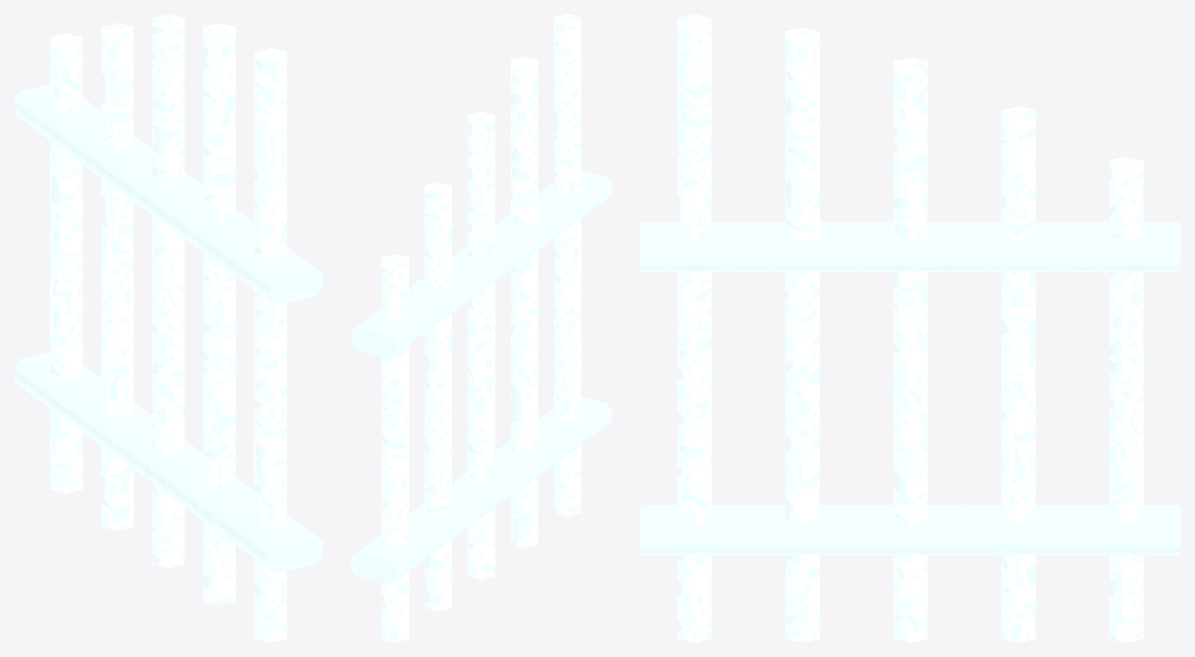
Rendered from 024_026_027_029_prison_bars.glb.
The picture shows the model from 3 angles, left to right: view 1: azimuth 30°, elevation 25°; view 2: azimuth 150°, elevation 25°; view 3: azimuth 270°, elevation 25°; orthographic projection. The views are drawn at different scales.
Parts seen in each view (by area): view 1: v_bars, h_bars; view 2: v_bars, h_bars; view 3: v_bars, h_bars.
Boxes of the visible parts, left/top/right/bottom form: v_bars: left=50, top=14, right=286, bottom=642; h_bars: left=14, top=84, right=322, bottom=573; v_bars: left=381, top=14, right=581, bottom=642; h_bars: left=351, top=171, right=611, bottom=584; v_bars: left=677, top=14, right=1143, bottom=642; h_bars: left=640, top=222, right=1180, bottom=555.
Size of the model in its own units: 0.18 by 1.88 by 1.5.
2 materials, 2 textured.
